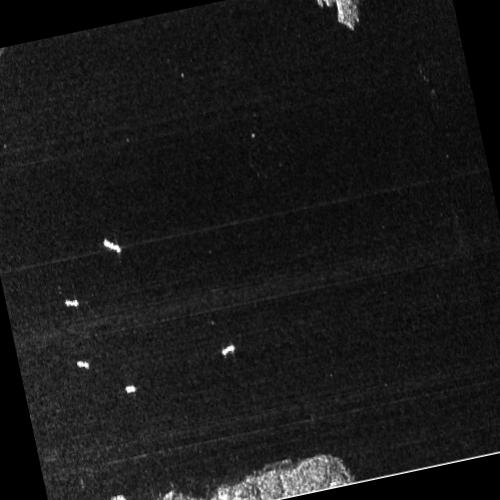ship: (103, 237, 121, 252), (222, 344, 235, 357), (64, 298, 79, 307), (76, 360, 90, 369), (124, 384, 137, 393)
